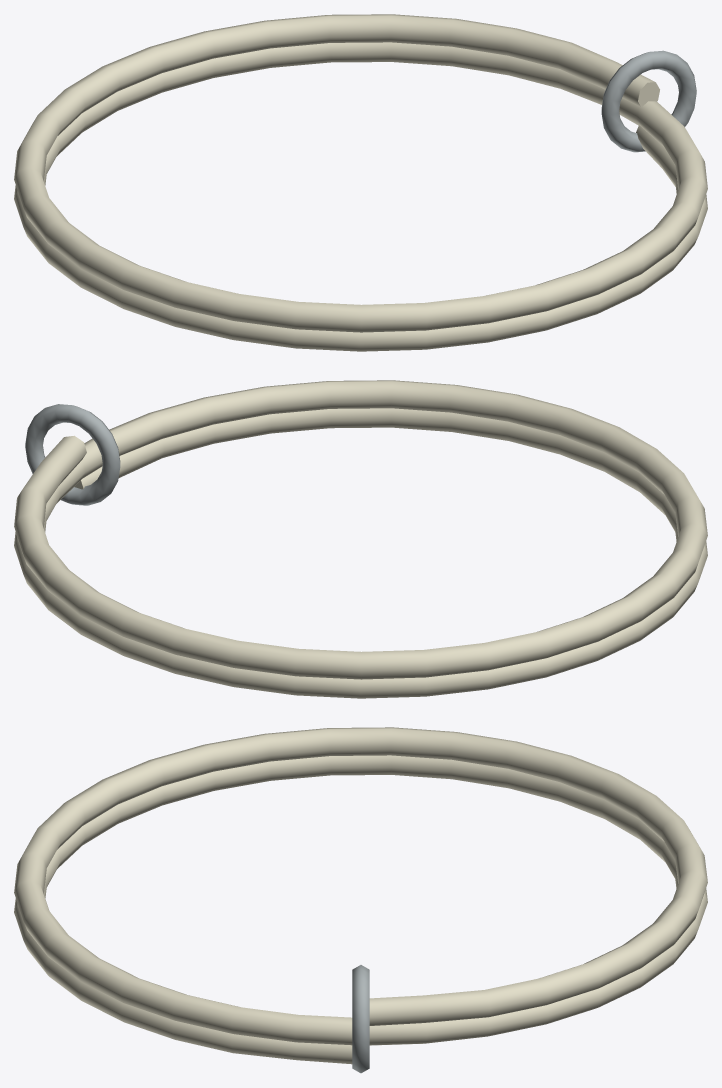
File: backpacks-and-expedition-storage-rope-sling-602f2c99__21109.glb
3 renders of one model, top to bottom at view 1: azimuth 30°, elevation 25°; view 2: azimuth 150°, elevation 25°; view 3: azimuth 270°, elevation 25°, orthographic.
Visible parts, largest first — view 1: rope-sling; view 2: rope-sling; view 3: rope-sling.
Boxes of the visible parts, <box> form: rope-sling: <box>14,14,707,351</box>; rope-sling: <box>14,380,707,698</box>; rope-sling: <box>14,727,707,1073</box>.
Bounding box in the file's own units: 0.441 × 0.066 × 0.4175.
